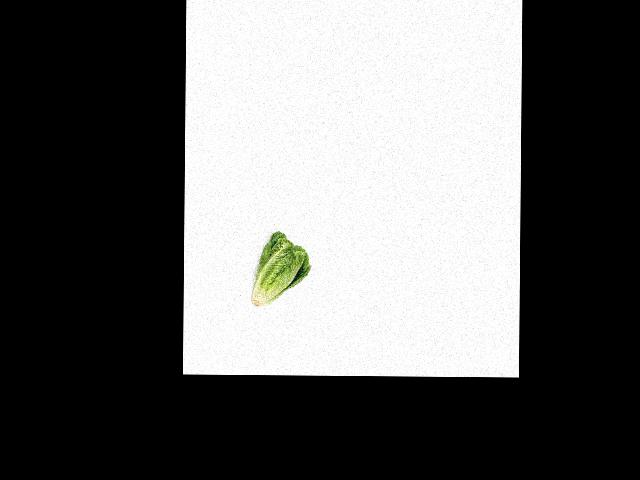lettuce: (249, 231, 310, 312)
